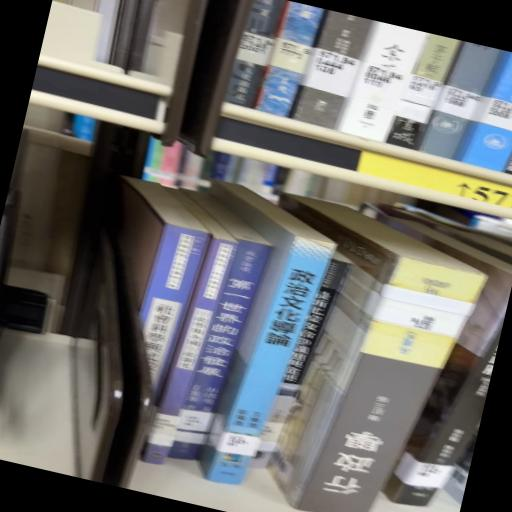reverse: (270, 196, 487, 512)
